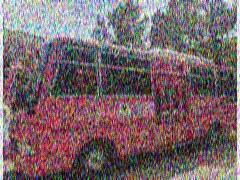bus: (9, 38, 231, 173)
